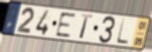2: (16, 6, 36, 35)
3: (98, 15, 117, 45)
4: (34, 9, 51, 37)
E: (54, 12, 77, 39)
L: (115, 17, 130, 46)
T: (78, 13, 94, 41)
